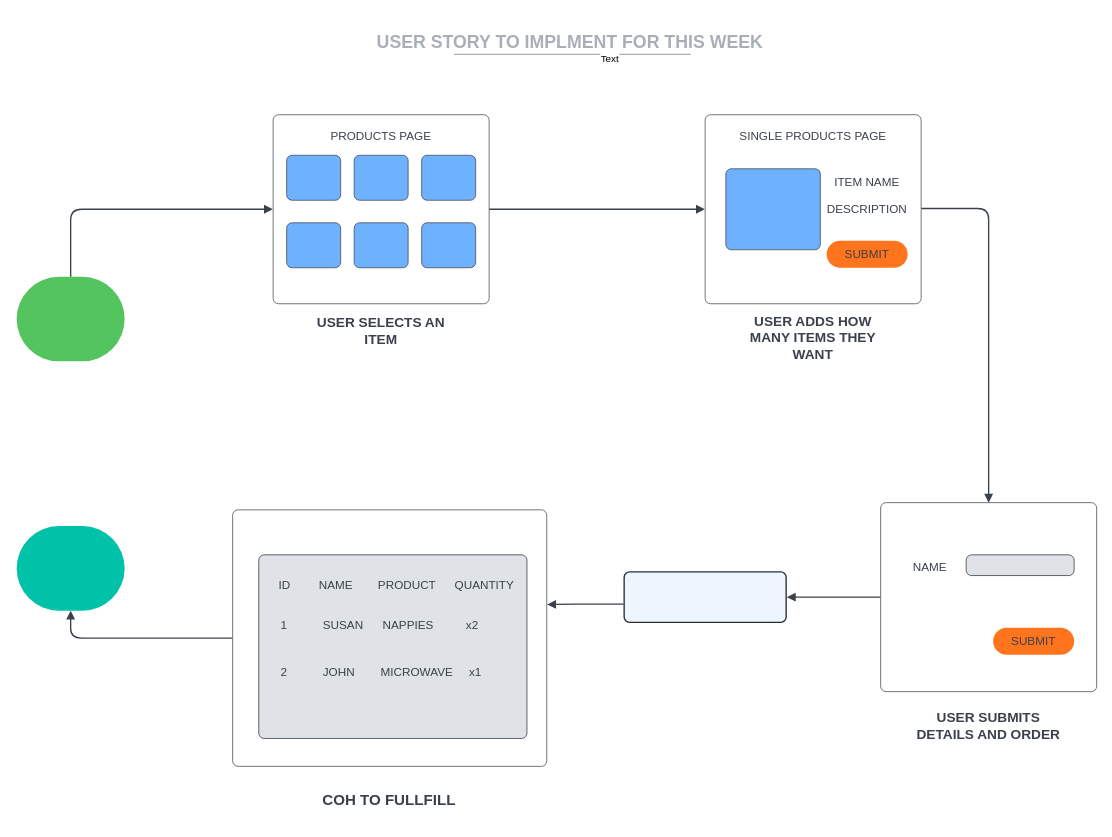
Image size: 1112x837. Some labels were removed from this diagram. The centre of each missing label's shape, as x and y in pixels:
"%creatorName% | %date{mmmm d, yyyy}%" goes at [569,61].
"COH TEAM" goes at [70,568].
"FORM WITH DETAILS" goes at [988,522].
"GETS SENT TO BACKEND" goes at [704,597].
"TABLE WITH ORDER ITEMS" goes at [389,534].
"USER" goes at [70,318].
